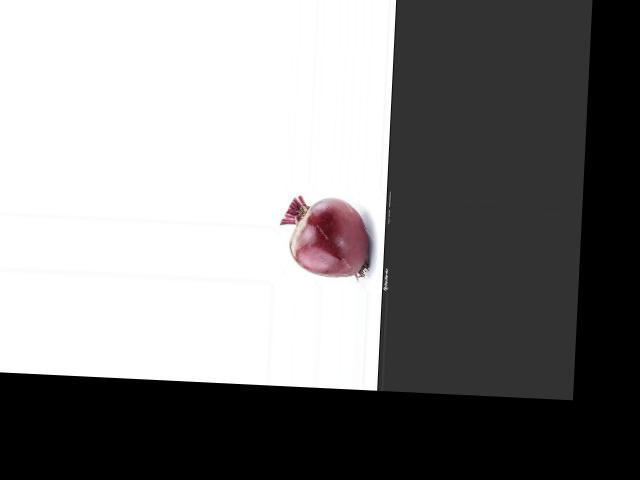beet: (278, 194, 371, 278)
